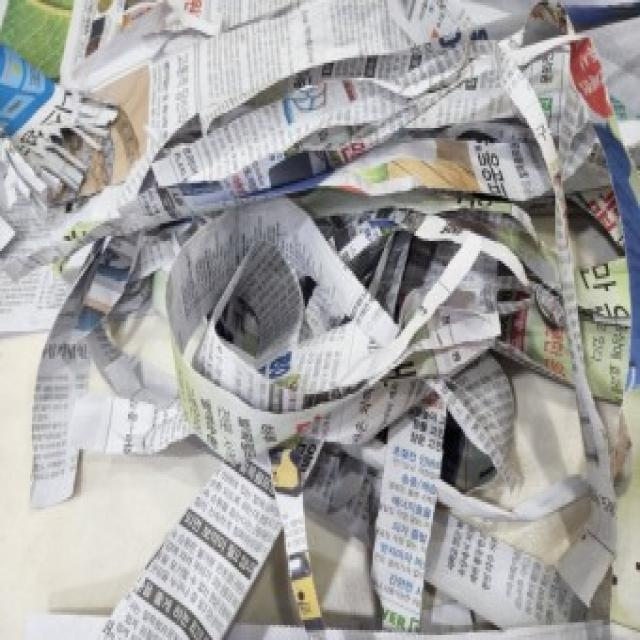reuseable_paper: (150, 30, 560, 518)
